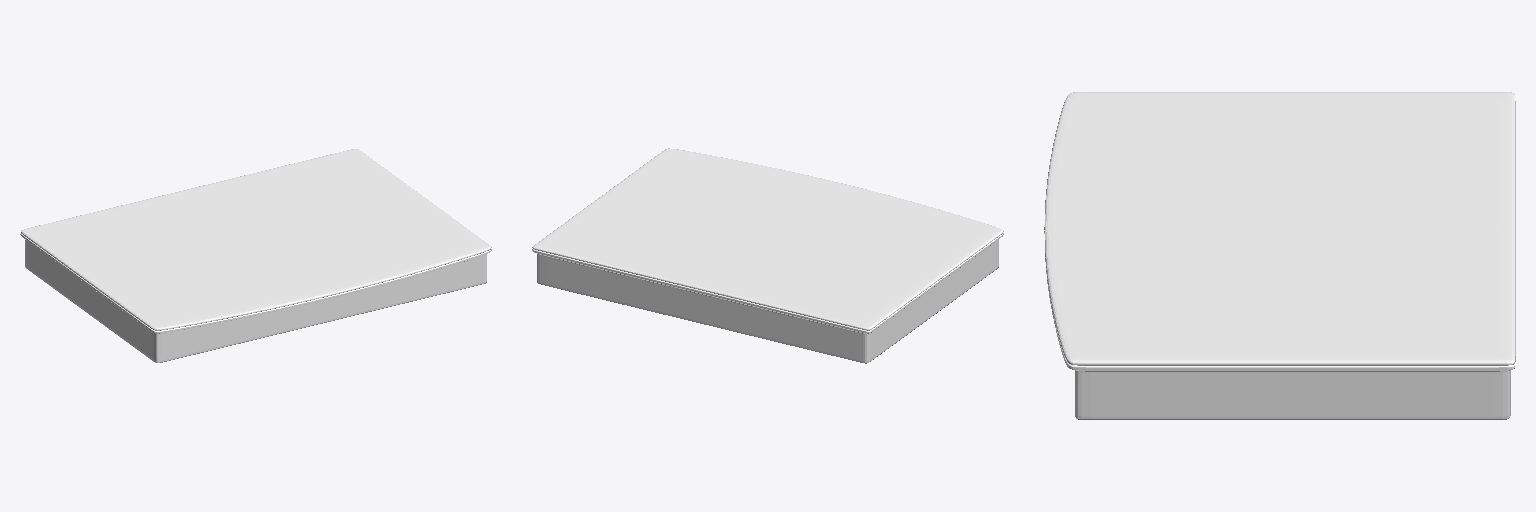
URDF robot description (textured):
<?xml version="1.0" ?>
<robot name="textured">
  <material name="color">
    <color rgba="1 1 1 1"/>
  </material>

  <link name="base_link">
    <contact>
      <lateral_friction value="1.0"/>
      <rolling_friction value="0.001"/>
      <spinning_friction value="0.001"/>
      <inertia_scaling value="1.0"/>
    </contact>
    <inertial>
      <origin rpy="0 0 0" xyz="0 0 0"/>
       <mass value="0.4"/>
       <inertia ixx="1" ixy="0" ixz="0" iyy="1" iyz="0" izz="1"/>
    </inertial>

    <visual>
      <origin rpy="0 0 0" xyz="0 0 0"/>
      <geometry>
        <mesh filename="11633_Cooktop_v1_L3.obj" scale="0.02 0.02 0.02"/>
      </geometry>
      <material name="color"/>
    </visual>

    <collision>
      <origin rpy="0 0 0" xyz="0 0 0"/>
      <geometry>
        <mesh filename="11633_Cooktop_v1_L3.obj" scale="0.02 0.02 0.02"/>
      </geometry>
    </collision>

  </link>
</robot>

--- Facts derived from the render (not from the file) ---
3 views of the same robot in one strip: view 1: azimuth 30°, elevation 25°; view 2: azimuth 150°, elevation 25°; view 3: azimuth 270°, elevation 25° (orthographic).
Robot: textured — 1 links, 0 joints (none); root link base_link; default pose: all joints at 0.
Visible links, largest first — view 1: base_link; view 2: base_link; view 3: base_link.
Boxes of the visible links, x1,y1,x2,y2 form: base_link: [20, 149, 491, 362]; base_link: [532, 148, 1003, 363]; base_link: [1044, 92, 1515, 419].
Bounding box of the posed robot: 0.5906 × 0.4333 × 0.0627 m (x, y, z).
Meshes: 1 distinct files referenced, 1 mesh visuals loaded (1 OBJ).
